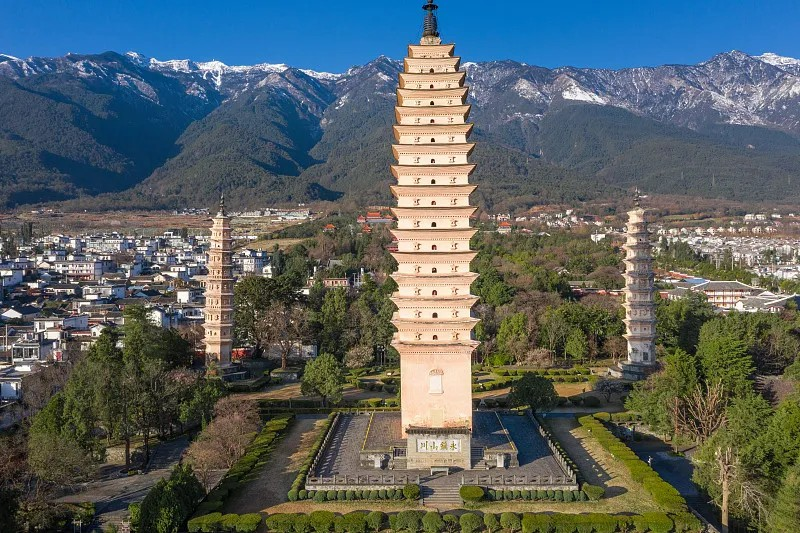ThreePagoda: (388, 1, 481, 437)
